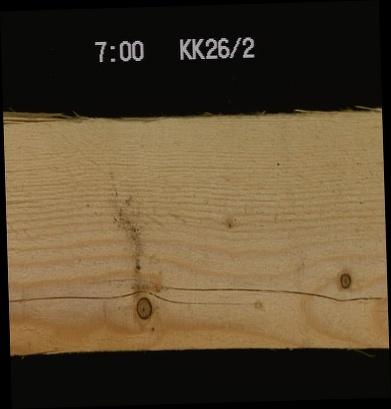dry_knot: (133, 294, 152, 320), (337, 270, 352, 289)
small_knot: (218, 213, 241, 235)
split: (8, 284, 254, 314), (166, 280, 383, 306)
